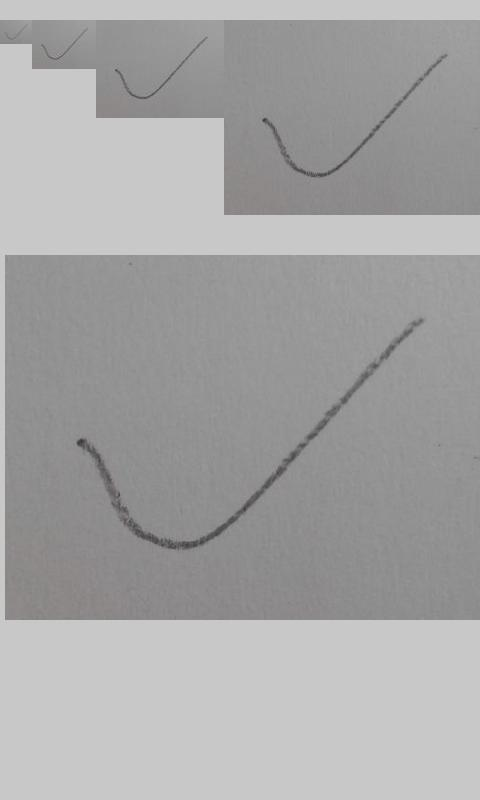check_box: (74, 320, 422, 551), (263, 55, 446, 177), (115, 37, 208, 100), (41, 28, 88, 60), (5, 24, 28, 40)
